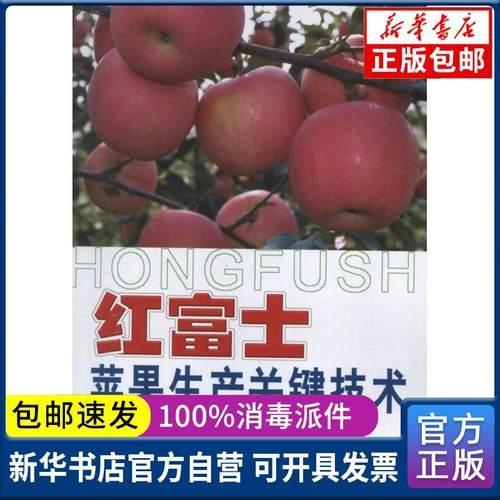apple: (284, 100, 423, 234), (83, 44, 204, 156), (193, 68, 307, 174), (107, 6, 246, 81), (301, 33, 413, 111), (81, 147, 161, 214), (214, 188, 300, 250)
